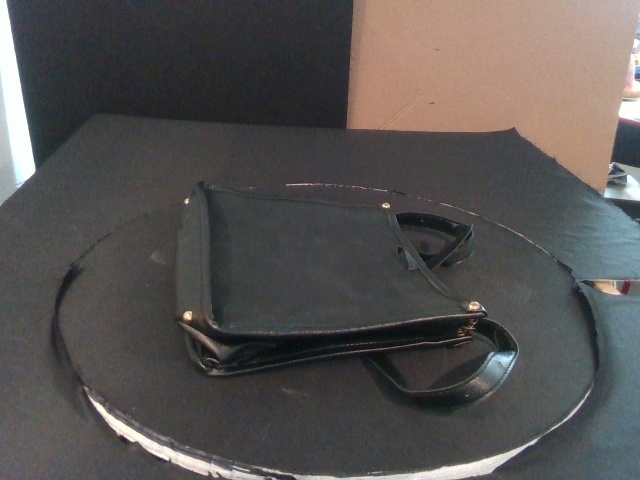bag: (173, 181, 487, 378)
